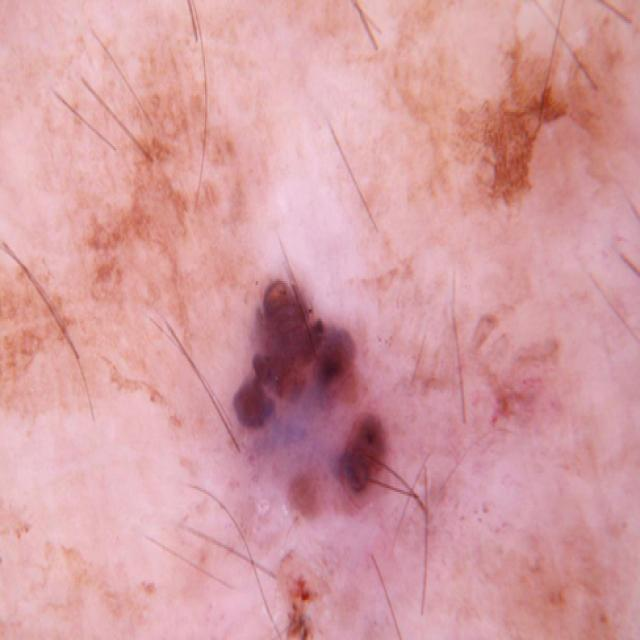Carcinoma: (70, 199, 573, 640)
